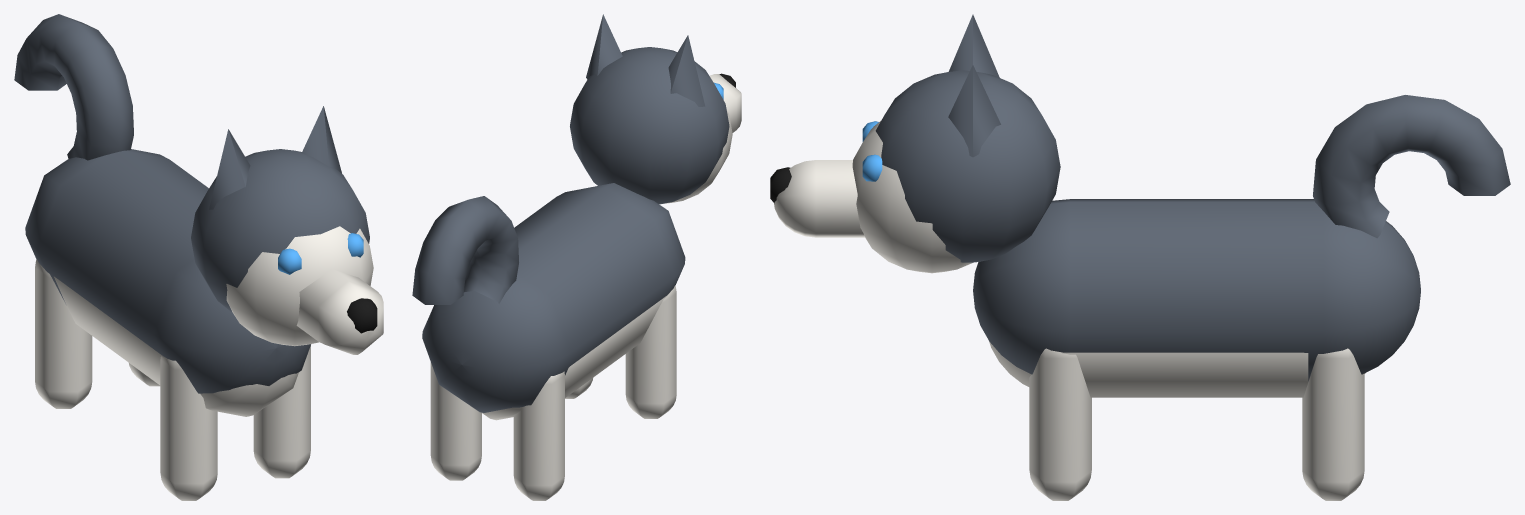
Rendered from husky.glb.
The picture shows the model from 3 angles, left to right: view 1: azimuth 30°, elevation 25°; view 2: azimuth 150°, elevation 25°; view 3: azimuth 270°, elevation 25°; orthographic projection. The views are drawn at different scales.
Parts seen in each view (by area): view 1: Body, Head, Tail, LegFL, LegBL, LegFR; view 2: Body, Head, Tail, LegBL, LegFL, LegBR; view 3: Body, Head, Tail, LegBR, LegFR.
Part boxes in pixels (x1,y1,x2,y2): Body: (25, 149, 310, 416); Head: (191, 106, 383, 354); Tail: (14, 14, 133, 160); LegFL: (160, 356, 217, 500); LegBL: (35, 259, 92, 408); LegFR: (253, 345, 310, 478); Body: (422, 183, 685, 420); Head: (570, 14, 741, 204); Tail: (412, 196, 518, 304); LegBL: (513, 371, 564, 500); LegFL: (625, 285, 676, 418); LegBR: (430, 362, 481, 480); Body: (973, 199, 1420, 397); Head: (770, 14, 1060, 273); Tail: (1313, 95, 1510, 238); LegBR: (1302, 348, 1364, 500); LegFR: (1029, 348, 1091, 500).
Bounding box in the file's own units: 0.1 × 0.2463 × 0.3801.
